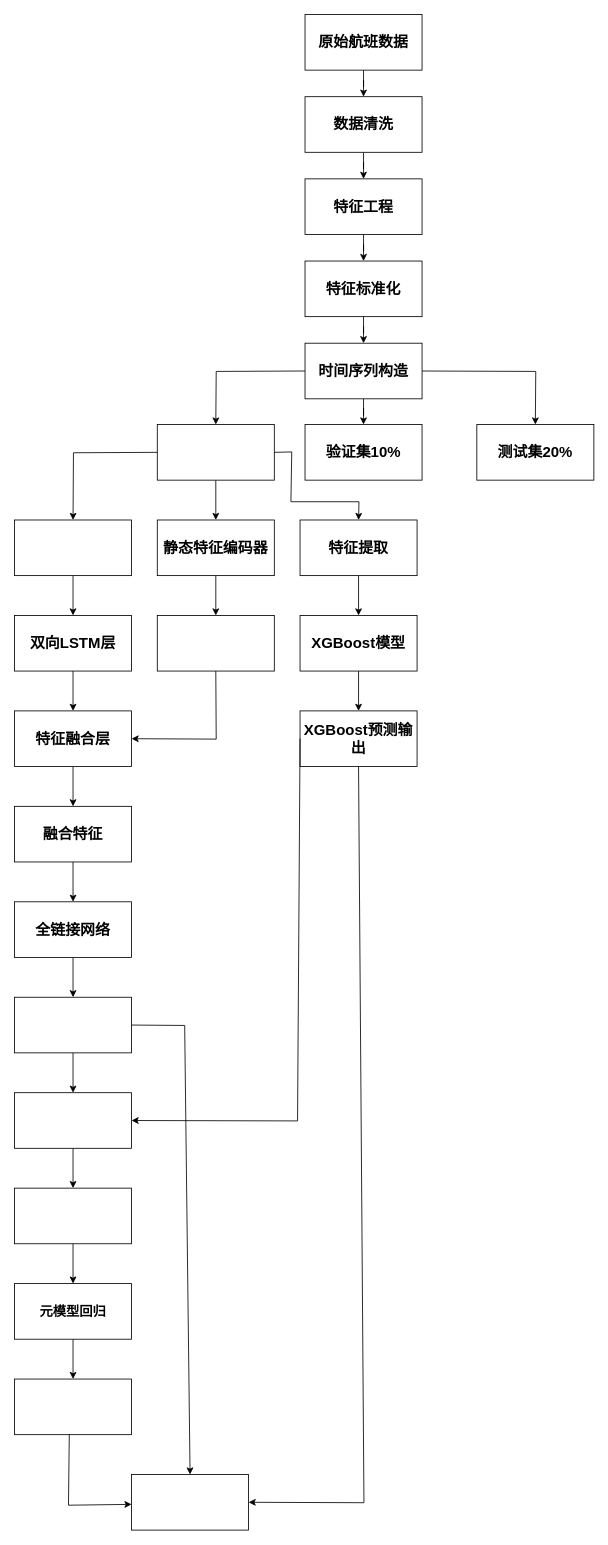
Some shapes in this 608 by 1545 pixel diagram are drawn without their labels. The shapes that lost their labels are listed below. From the top down, each one's centre as x and y in pixels, then its label:
At pixel 215 452: "训练集70%".
At pixel 73 547: "LSTM输入层".
At pixel 215 643: "静态特征编码".
At pixel 73 1024: "LSTM预测输出".
At pixel 73 1120: "元特征构建".
At pixel 73 1215: "元特征矩阵".
At pixel 73 1406: "最终预测".
At pixel 190 1502: "评估".
